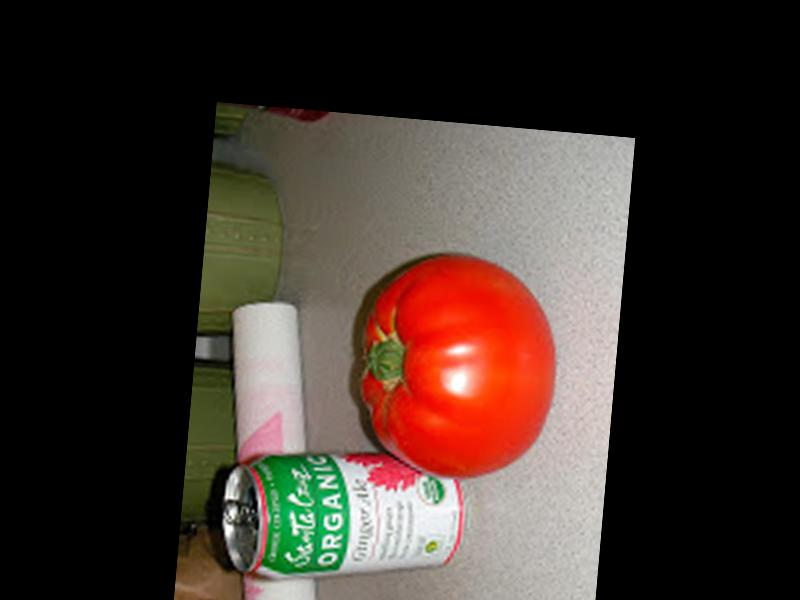Tomato: (354, 250, 562, 483)
